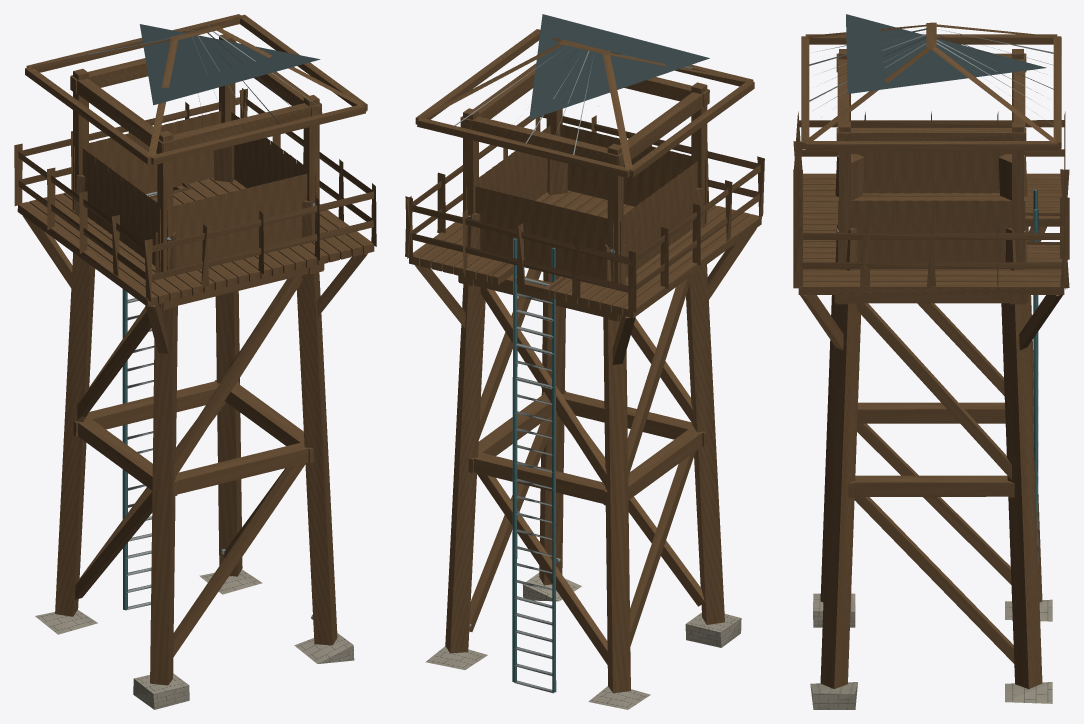
The picture shows the model from 3 angles, left to right: view 1: azimuth 30°, elevation 25°; view 2: azimuth 150°, elevation 25°; view 3: azimuth 270°, elevation 25°; orthographic projection. The views are drawn at different scales.
Parts seen in each view (by area): view 1: static_assembly_wood_001, static_assembly_dark_001, static_assembly_stone_001, static_assembly_bolt_001, static_assembly_steel_001; view 2: static_assembly_wood_001, static_assembly_dark_001, static_assembly_steel_001, static_assembly_bolt_001, static_assembly_stone_001; view 3: static_assembly_wood_001, static_assembly_dark_001, static_assembly_stone_001, static_assembly_bolt_001, static_assembly_steel_001.
Boxes of the visible parts, x1,y1,x2,y2 form: static_assembly_wood_001: (14,14,376,685); static_assembly_dark_001: (139,24,320,105); static_assembly_stone_001: (35,569,354,709); static_assembly_bolt_001: (63,25,318,619); static_assembly_steel_001: (122,289,127,610); static_assembly_wood_001: (405,29,764,693); static_assembly_dark_001: (529,14,709,119); static_assembly_steel_001: (512,238,556,692); static_assembly_bolt_001: (454,47,692,693); static_assembly_stone_001: (425,573,741,709); static_assembly_wood_001: (793,22,1069,688); static_assembly_dark_001: (846,14,1046,93); static_assembly_stone_001: (810,593,1052,709); static_assembly_bolt_001: (807,27,1055,563); static_assembly_steel_001: (1033,189,1038,544).
Size of the model in its own units: 4 by 10 by 4.
5 materials, 3 textured.
